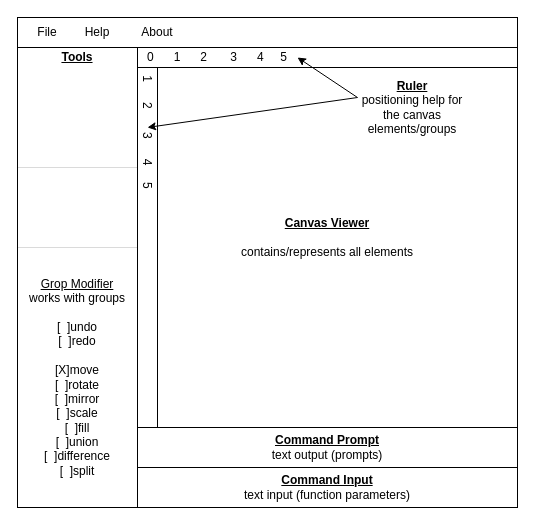
Image size: 535x525. Some labels were removed from this diagram. The box of each missing label's shape, as (x1, y1, x2, y2) in pixels:
Element contains preset states for elements to be used on the canvas: (17, 47, 137, 167)
Menubar access to functionality and information: (16, 16, 518, 48)
Selector creates groups: (17, 167, 137, 247)
